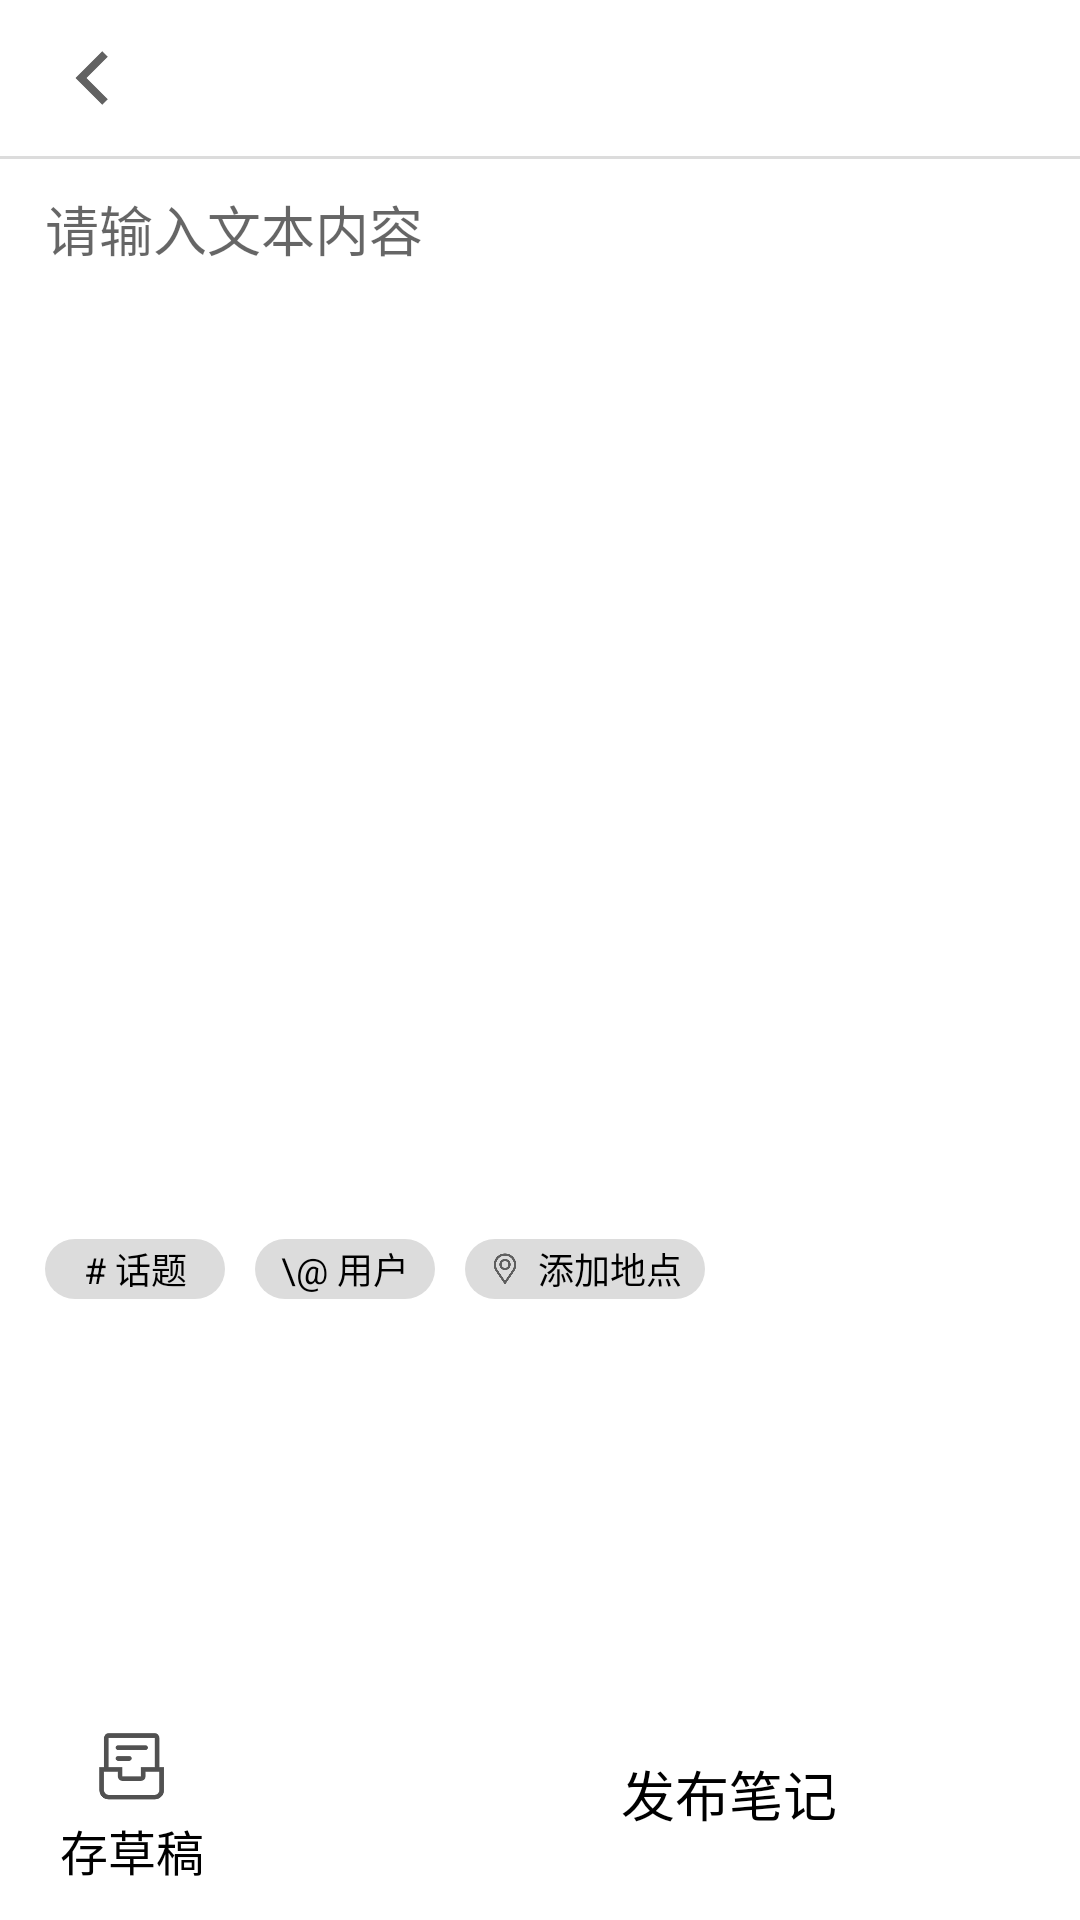

Screen size 1080×1920. Icon name, then its center in pixels as point (x, y):
back: point (92, 78)
location: point (505, 1268)
